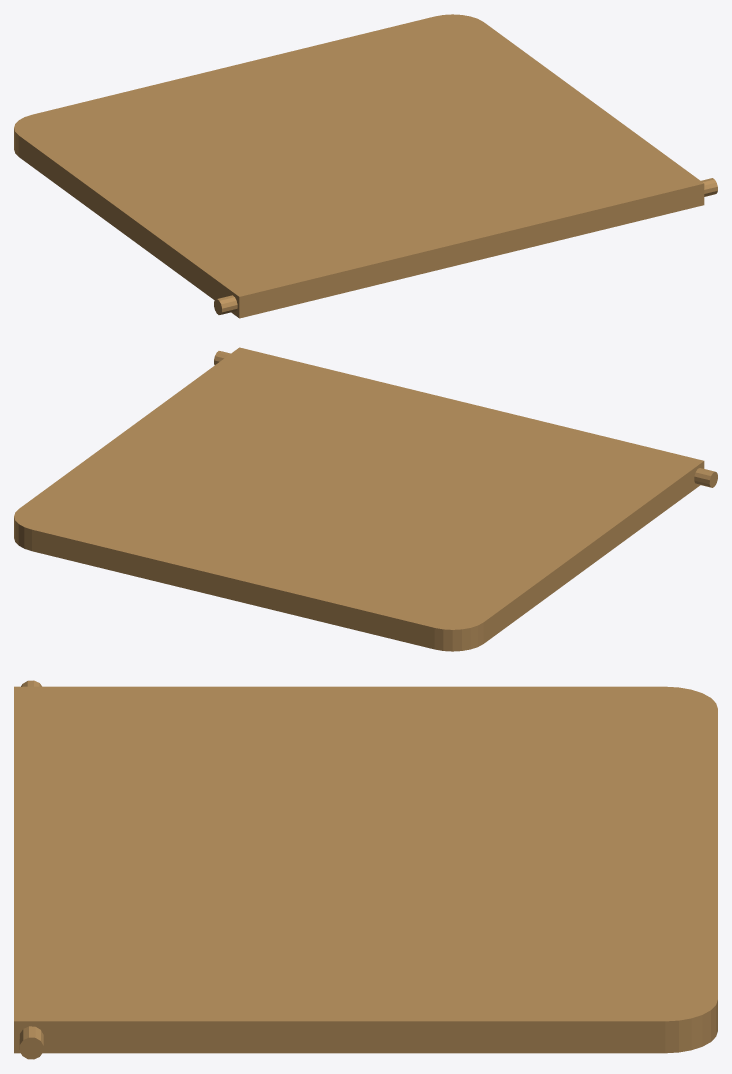
The model's file is student_desk_desk.glb.
3 views of the same model, one above another, from view 1: azimuth 30°, elevation 25°; view 2: azimuth 150°, elevation 25°; view 3: azimuth 270°, elevation 25° (orthographic). The views are drawn at different scales.
Visible parts, largest first — view 1: student_desk_desk; view 2: student_desk_desk; view 3: student_desk_desk.
Part boxes in pixels (box(x1,y1,x2,y2)): student_desk_desk: box(14, 14, 717, 318); student_desk_desk: box(14, 347, 717, 651); student_desk_desk: box(14, 680, 717, 1059).
Size of the model in its own units: 0.48 by 0.02 by 0.4.
